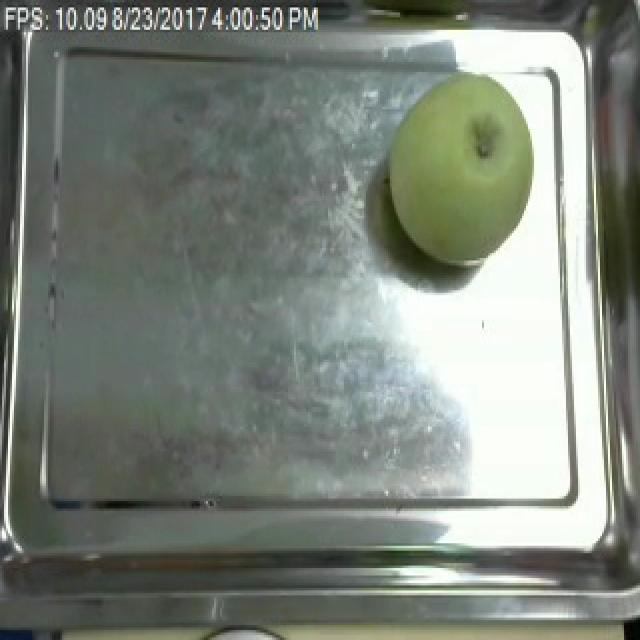50-_ripeness: (376, 63, 542, 260)
